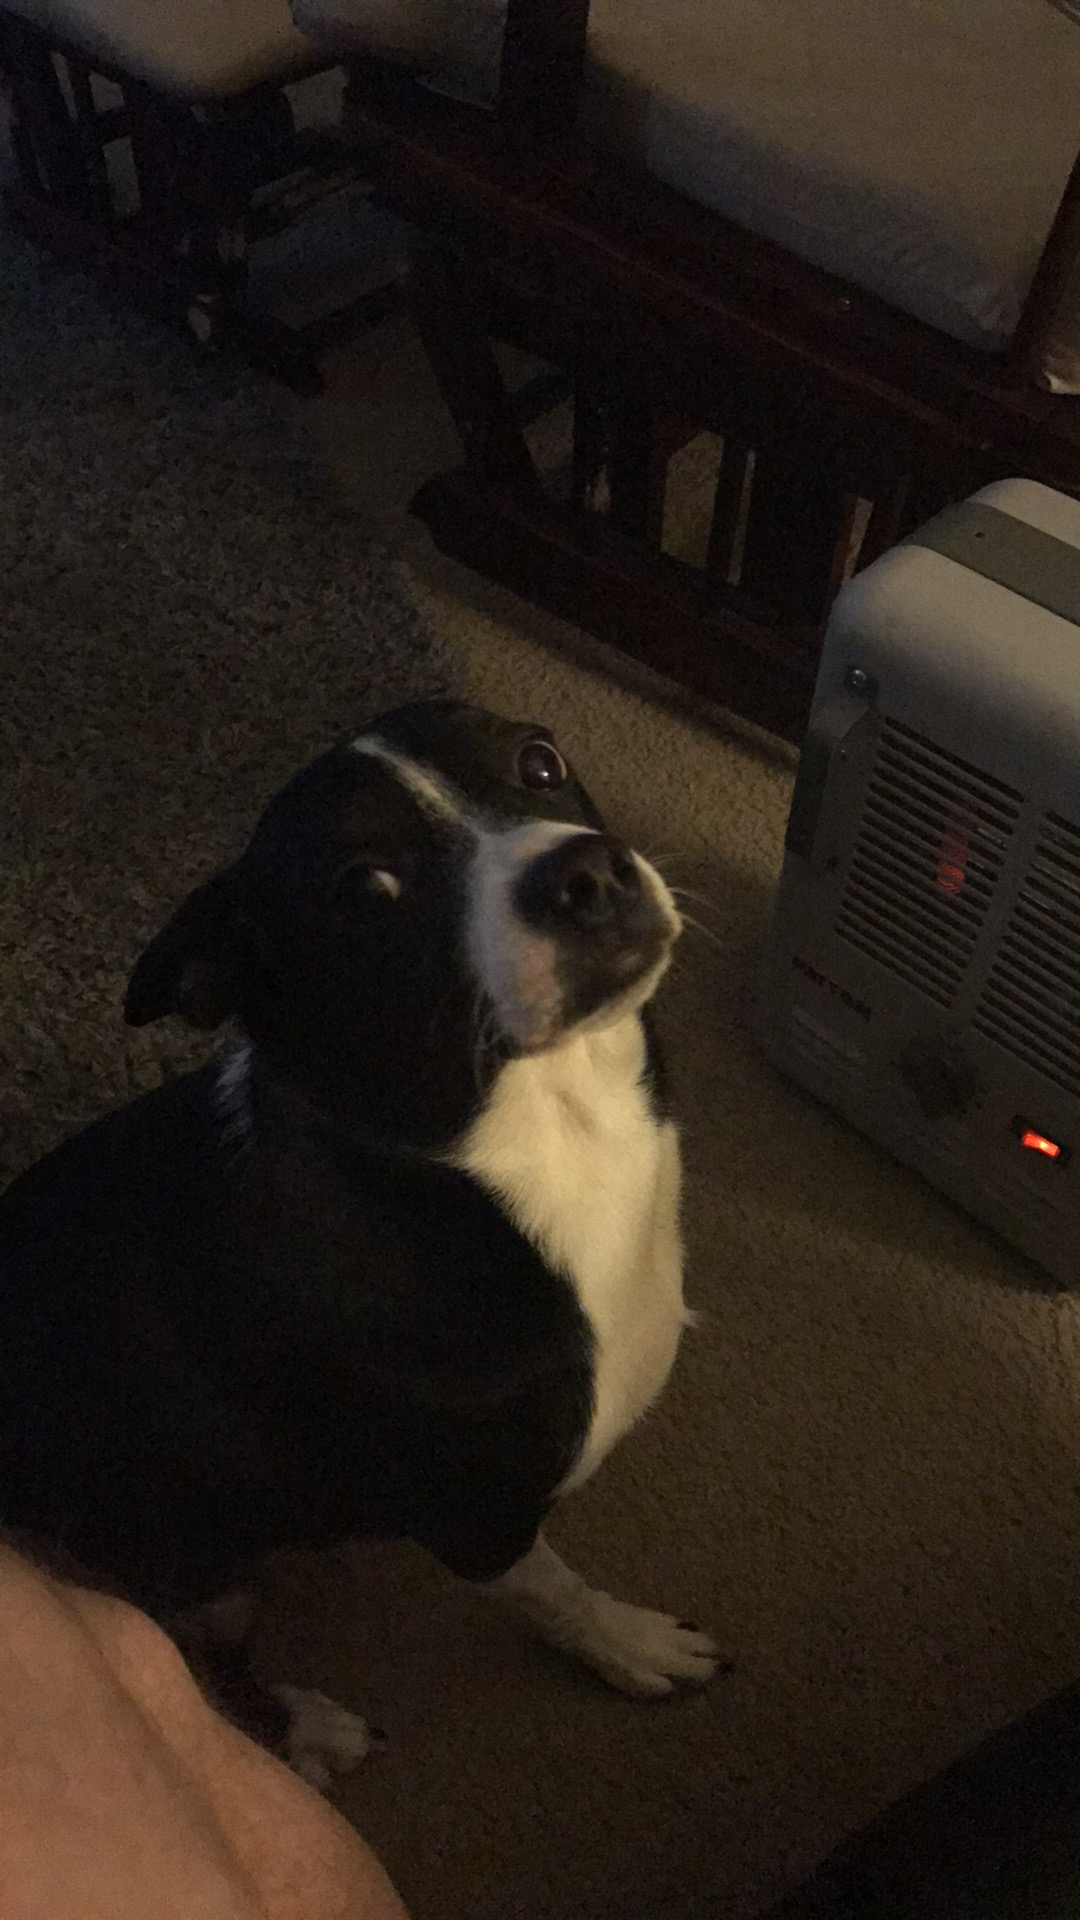Harley: (15, 676, 737, 1774)
